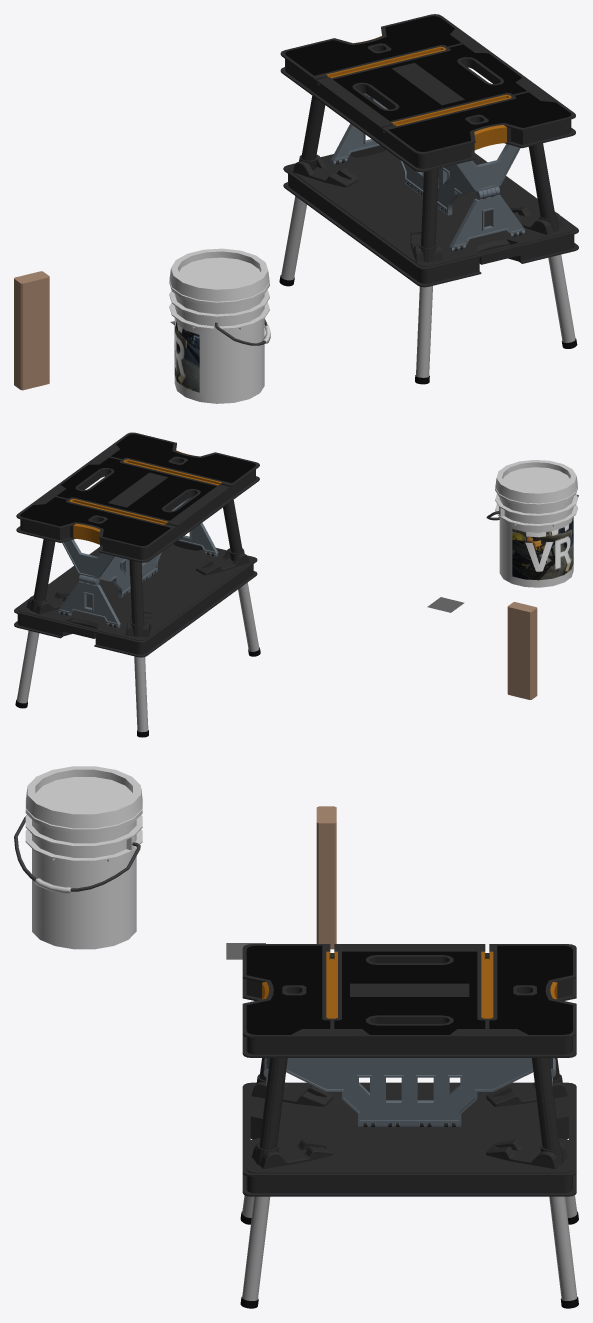
The picture shows the model from 3 angles, top to bottom: view 1: azimuth 30°, elevation 25°; view 2: azimuth 150°, elevation 25°; view 3: azimuth 270°, elevation 25°; orthographic projection. The views are drawn at different scales.
Visible parts, largest first — view 1: bench_top, bench_bottom, paint_5G_bucket_low, supports, upper_covers, stud_short, bench_legs; view 2: bench_top, bench_bottom, paint_5G_bucket_low, supports, upper_covers, stud_short, bench_legs; view 3: bench_top, bench_bottom, paint_5G_bucket_low, supports, upper_covers, bench_legs, stud_short.
Part boxes in pixels (<box>): bench_top: <box>280,14,575,172</box>; bench_bottom: <box>283,145,578,287</box>; paint_5G_bucket_low: <box>169,248,270,403</box>; supports: <box>331,93,525,251</box>; upper_covers: <box>293,96,563,262</box>; stud_short: <box>14,271,49,390</box>; bench_legs: <box>279,196,577,384</box>; bench_top: <box>16,432,259,562</box>; bench_bottom: <box>14,540,257,657</box>; paint_5G_bucket_low: <box>486,460,578,587</box>; supports: <box>58,497,218,628</box>; upper_covers: <box>26,500,249,636</box>; stud_short: <box>507,602,537,699</box>; bench_legs: <box>15,582,260,737</box>; bench_top: <box>242,944,576,1057</box>; bench_bottom: <box>242,1082,576,1196</box>; paint_5G_bucket_low: <box>14,766,142,949</box>; supports: <box>263,1058,555,1127</box>; upper_covers: <box>251,1058,567,1168</box>; bench_legs: <box>240,1139,578,1308</box>; stud_short: <box>316,806,336,949</box>.
Size of the model in its own units: 182 by 76.06 by 142.
11 materials, 1 textured.
